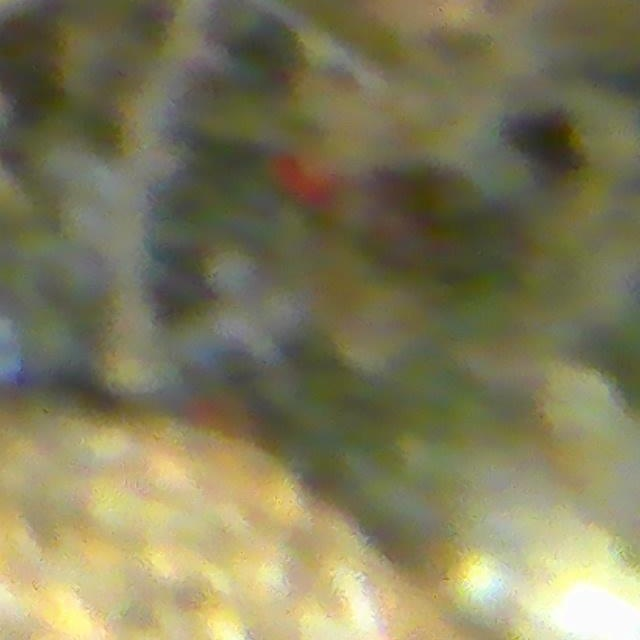SeaGrape: (445, 549, 520, 626)
